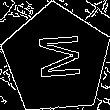M_W: (30, 34, 82, 85)
